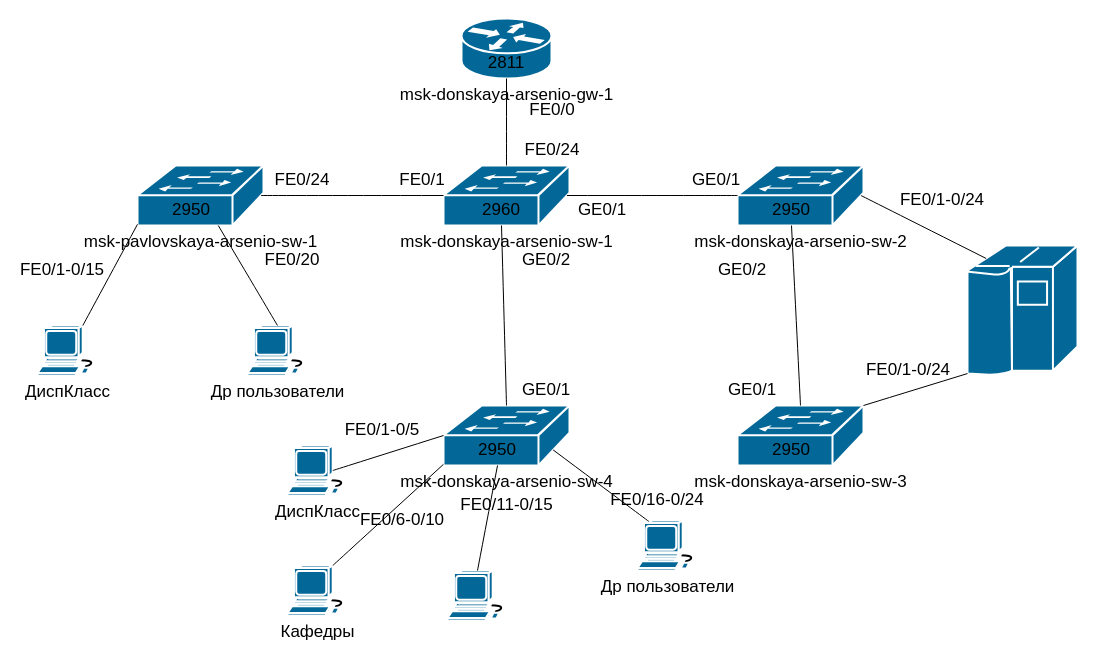
The diagram is 1095 pixels wide and 664 high, and some of its shapes have lost their labels. The centre of each missing label's shape, as x and y in pixels:
"Администрация" goes at [477,595].
"Серверная ферма" goes at [1022,310].
